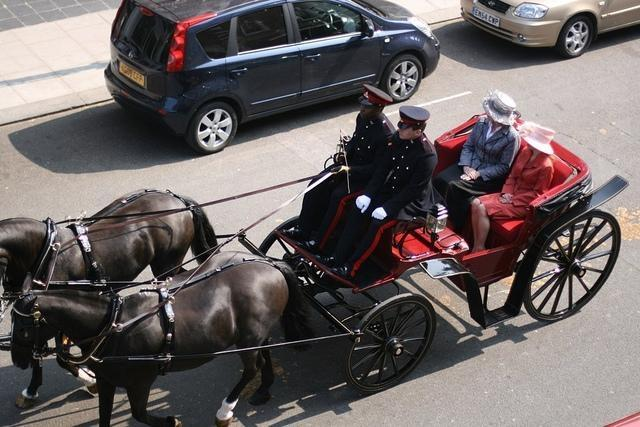car: (100, 1, 445, 156), (460, 2, 638, 56)
